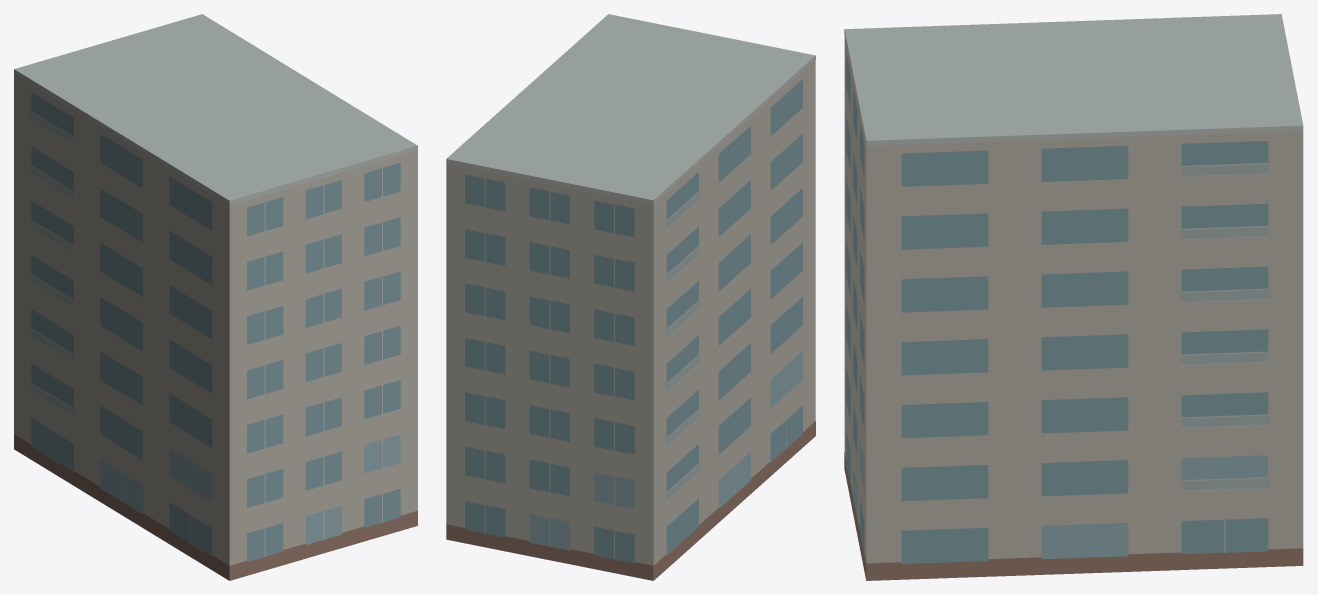
The model's file is survey-upis-32668473.glb.
3 views of the same model, side by side, from view 1: azimuth 30°, elevation 25°; view 2: azimuth 150°, elevation 25°; view 3: azimuth 270°, elevation 25° (orthographic). The views are drawn at different scales.
Visible parts, largest first — view 1: survey-upis-32668473.tmp; view 2: survey-upis-32668473.tmp; view 3: survey-upis-32668473.tmp.
Boxes of the visible parts, bbox=[...] form: survey-upis-32668473.tmp: bbox=[14, 14, 417, 580]; survey-upis-32668473.tmp: bbox=[446, 14, 815, 580]; survey-upis-32668473.tmp: bbox=[844, 14, 1303, 580].
Size of the model in its own units: 12.3 by 19.9 by 18.81.
